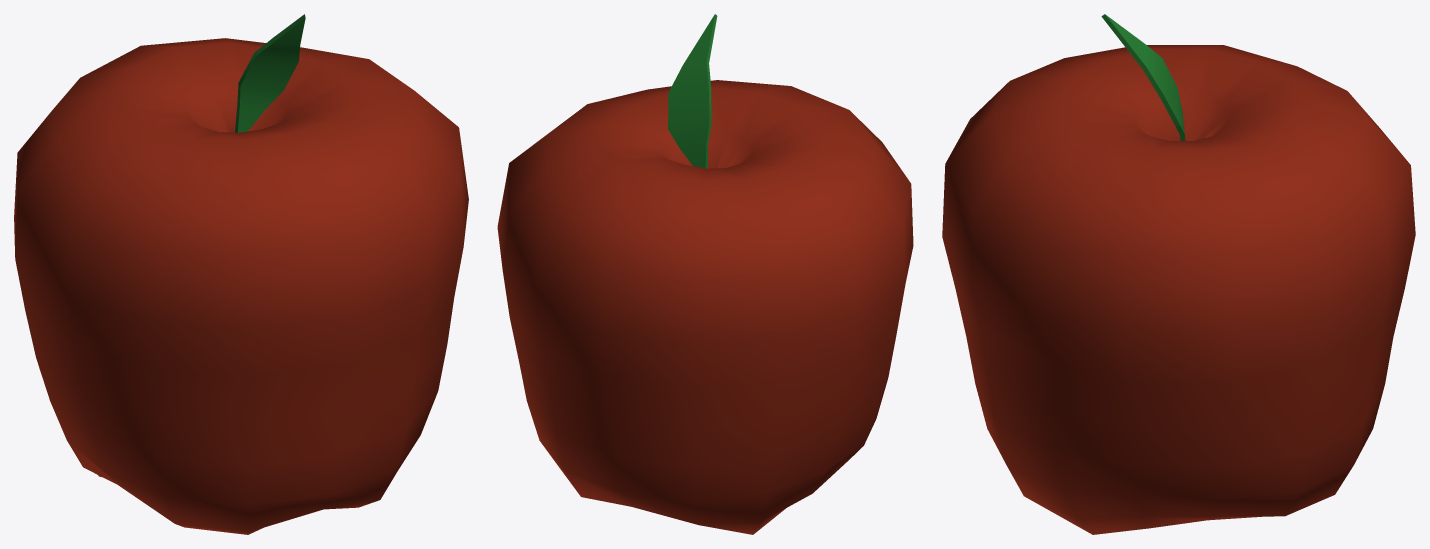
File: apple.glb
3 renders of one model, left to right at view 1: azimuth 30°, elevation 25°; view 2: azimuth 150°, elevation 25°; view 3: azimuth 270°, elevation 25°, orthographic. The views are drawn at different scales.
Visible parts, largest first — view 1: apple, leaf; view 2: apple, leaf; view 3: apple, leaf.
Part boxes in pixels (left/top/right/bottom): apple: left=14, top=38, right=468, bottom=534; leaf: left=235, top=14, right=305, bottom=132; apple: left=497, top=80, right=913, bottom=534; leaf: left=668, top=14, right=717, bottom=168; apple: left=942, top=45, right=1415, bottom=534; leaf: left=1101, top=14, right=1185, bottom=140.
Size of the model in its own units: 1.73 by 2.04 by 1.77.
